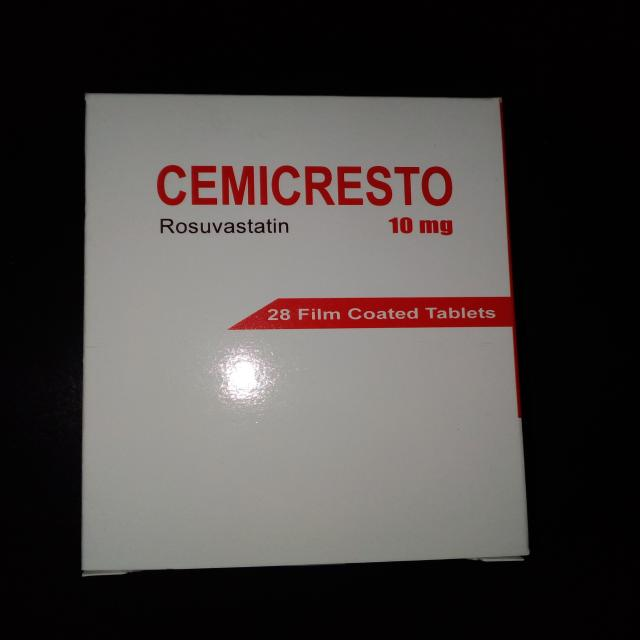Medicine: (78, 88, 539, 577)
